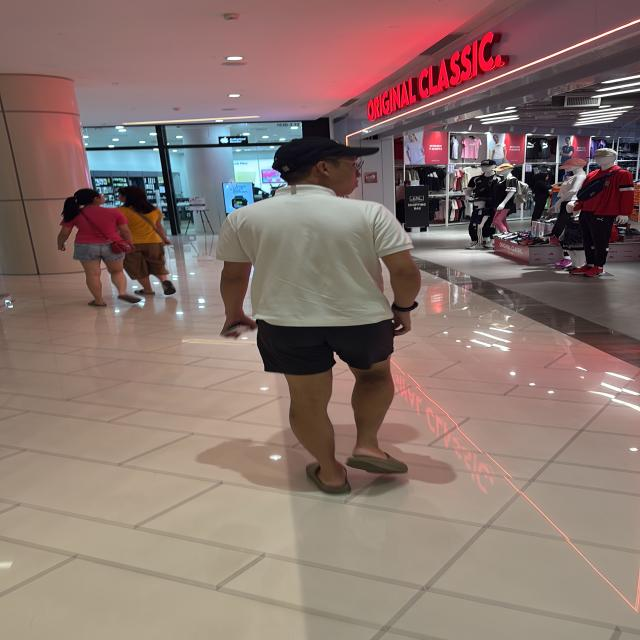Person: (196, 128, 455, 514), (51, 188, 131, 308), (116, 181, 182, 302)
